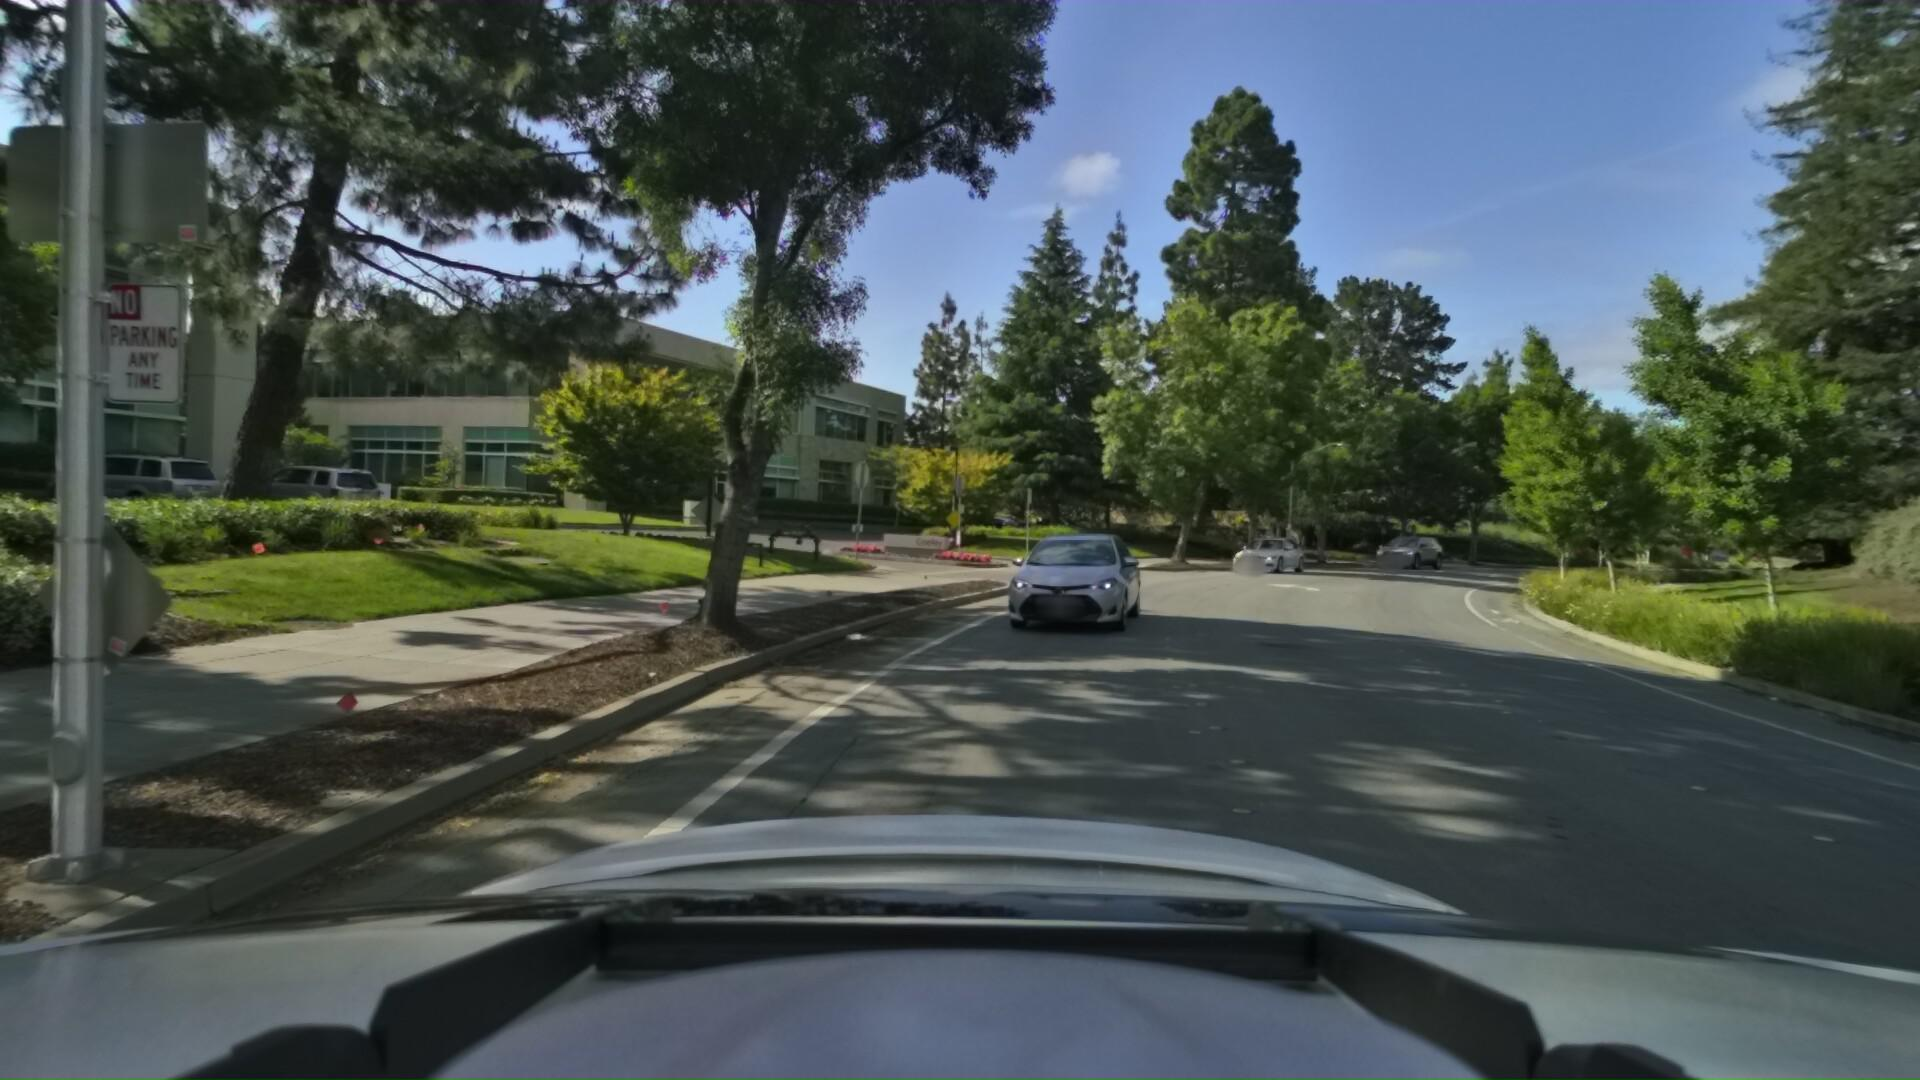car: (1002, 520, 1146, 632), (1232, 527, 1313, 572), (1374, 529, 1455, 566)
